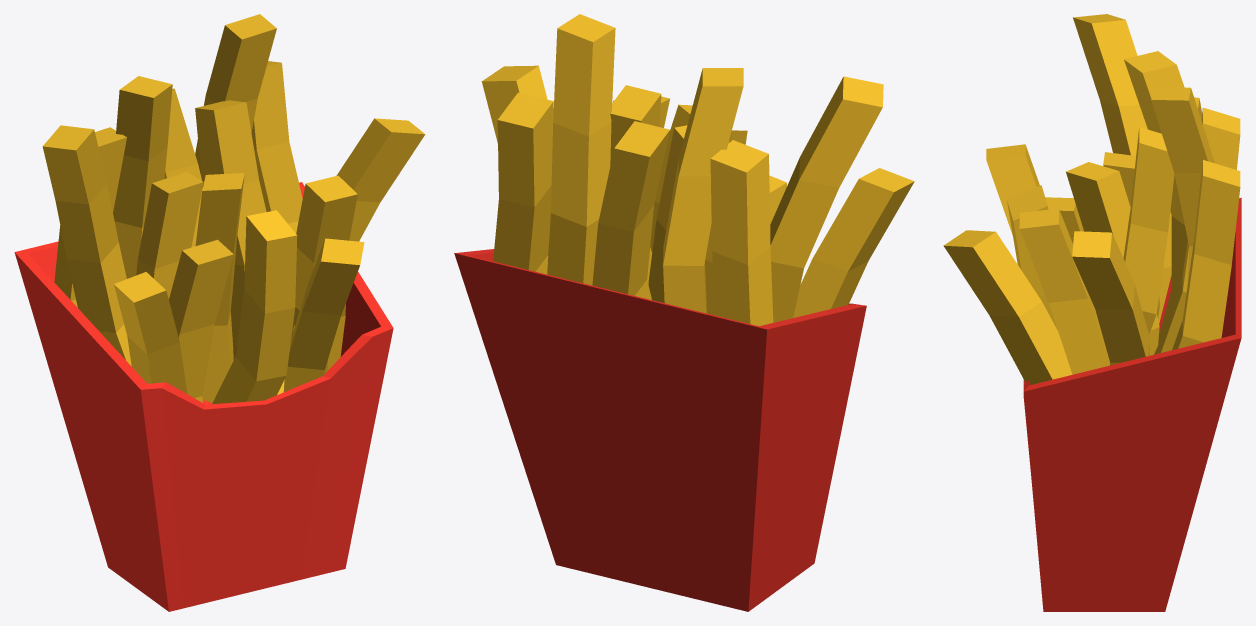
Rendered from cips.fbx.
The picture shows the model from 3 angles, left to right: view 1: azimuth 30°, elevation 25°; view 2: azimuth 150°, elevation 25°; view 3: azimuth 270°, elevation 25°; orthographic projection. The views are drawn at different scales.
Visible parts, largest first — view 1: Cube; view 2: Cube; view 3: Cube.
Part boxes in pixels (x1,y1,x2,y2): Cube: (14,14,425,611); Cube: (454,14,914,611); Cube: (943,14,1241,611).
Bounding box in the file's own units: 255 × 336 × 180.
